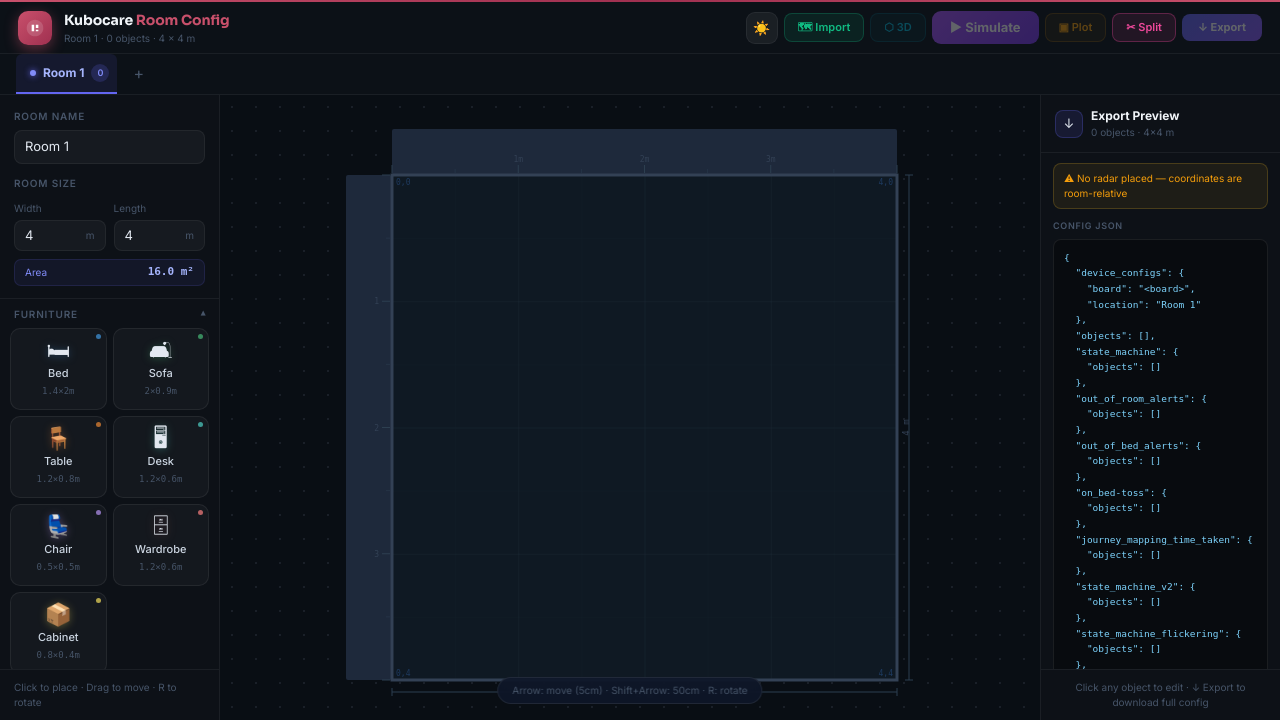
Test: App — export modal › opens export modal when objects exist
Step 1. Click the text "Bed" → click(58, 373), box [48,364,68,381]
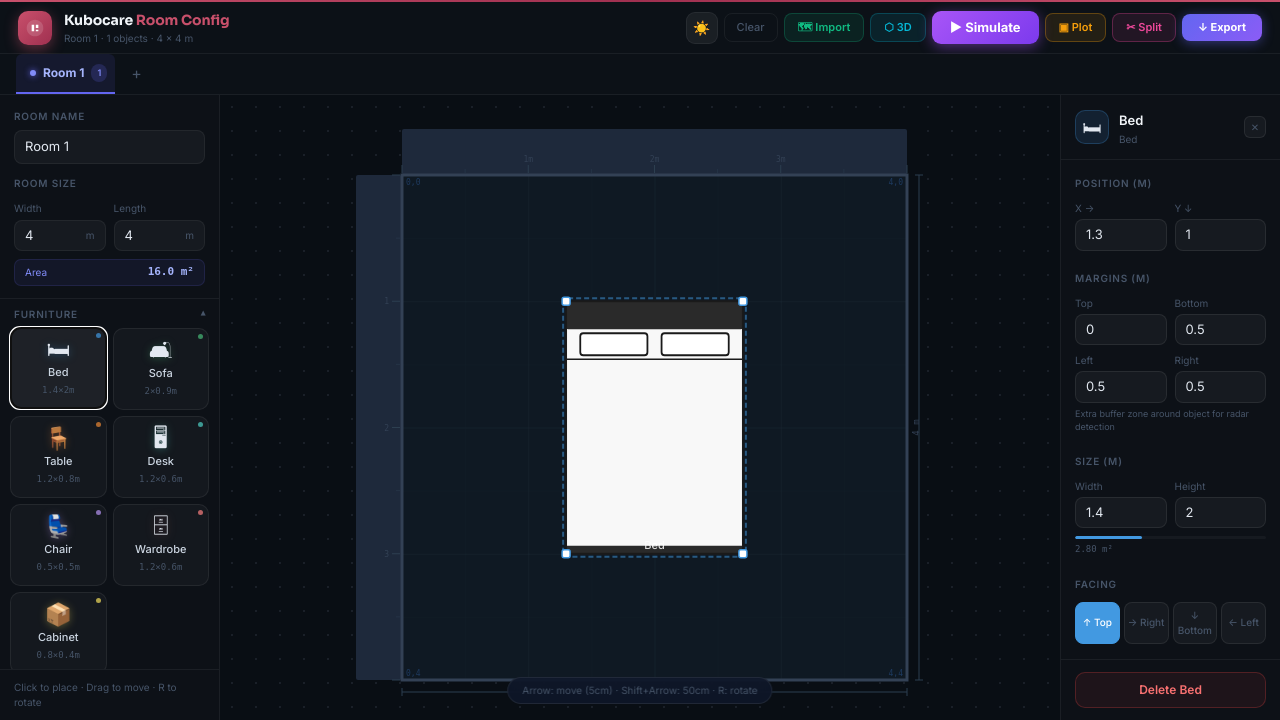
Step 2. Click the button "↓ Export" → click(1222, 28), box [1182,14,1262,41]
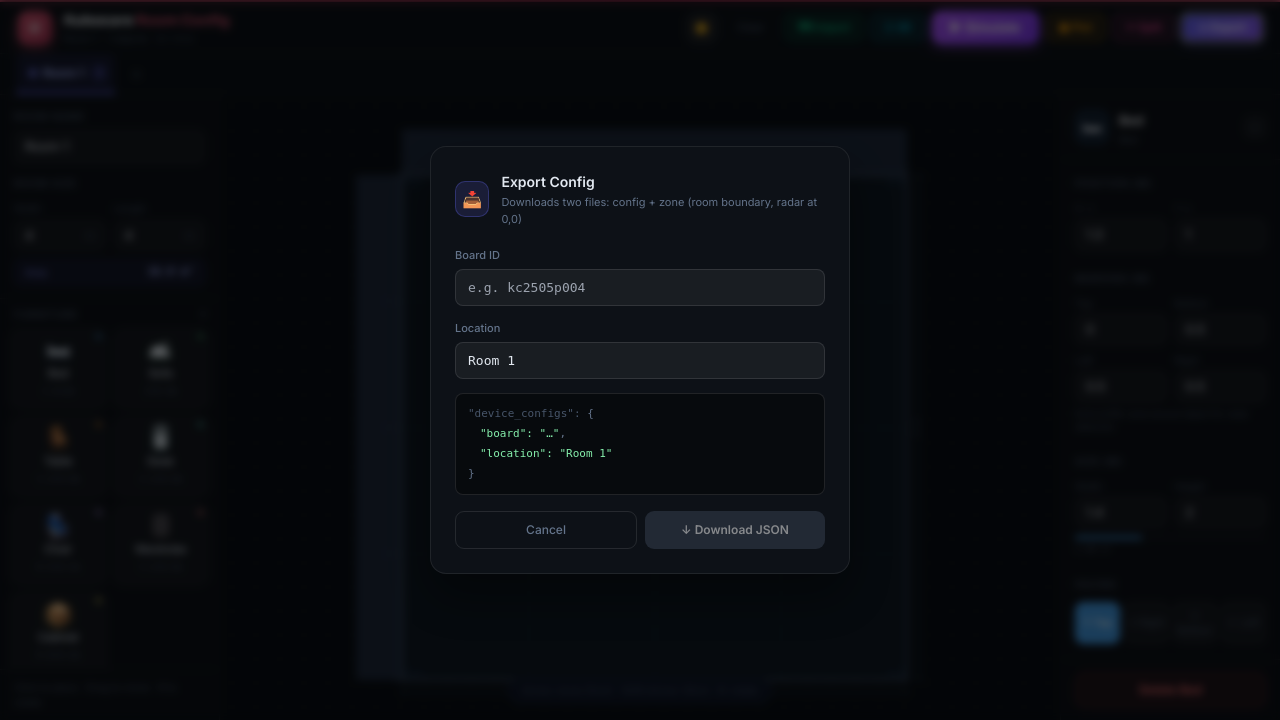
Now the text "Export Config" is shown, box [501,173,595,190]
